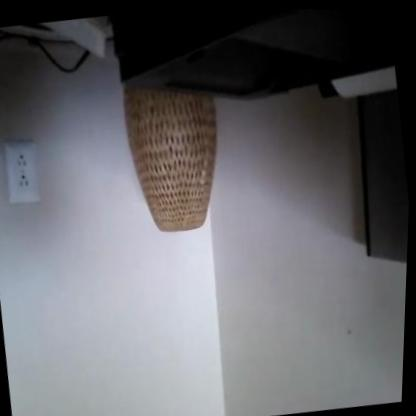OUTLET: (2, 141, 42, 206)
